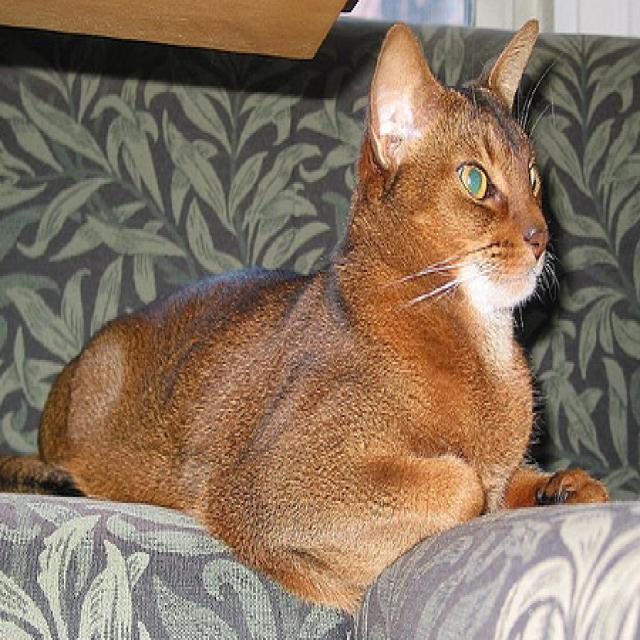Abyssinian: (0, 11, 616, 614)
